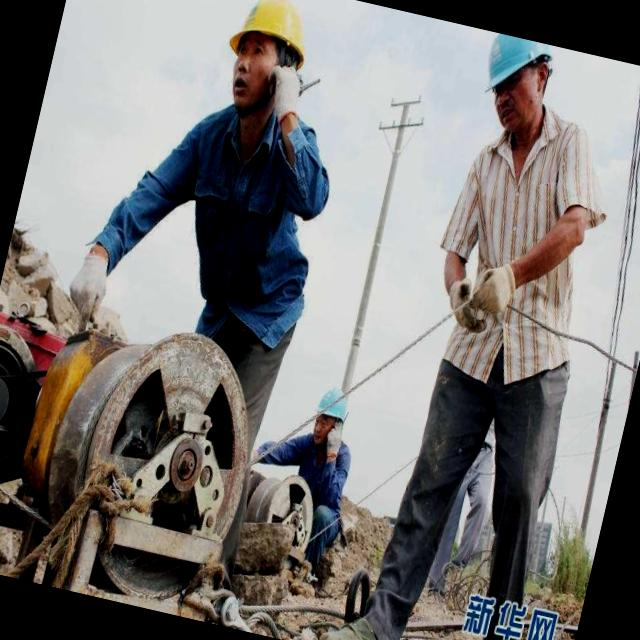helmet: (222, 0, 318, 68), (482, 33, 562, 102)
no-vest: (412, 106, 620, 400)
vest: (167, 100, 340, 349)
